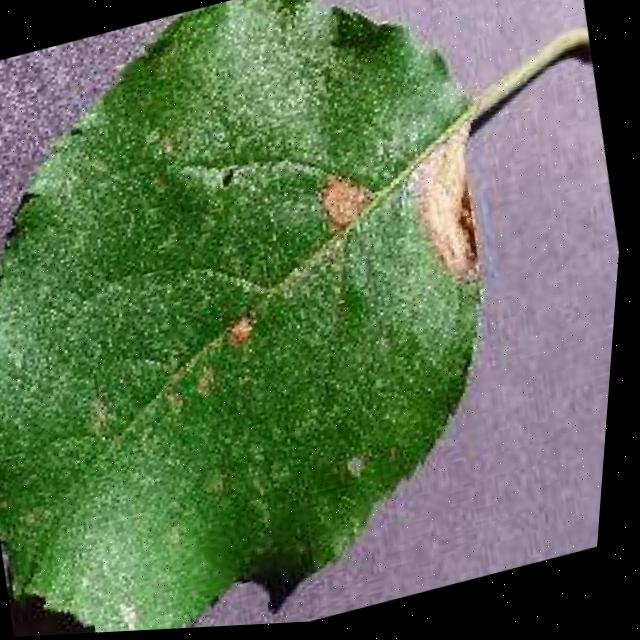black_rot: (380, 102, 526, 303), (294, 160, 391, 256), (201, 296, 274, 374)
